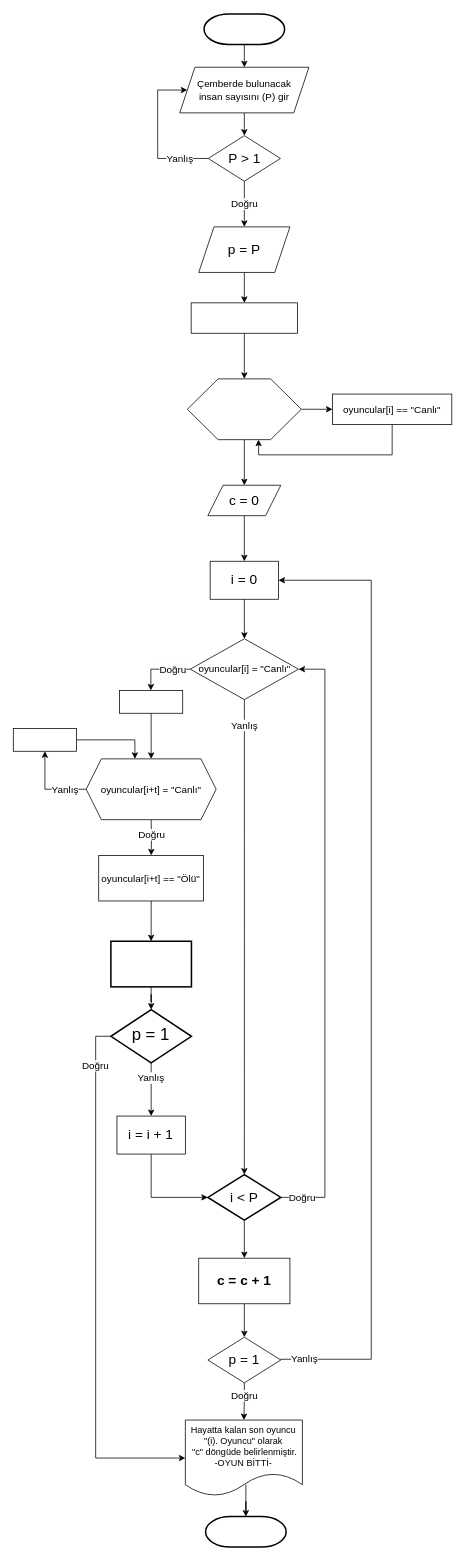
The diagram is 465 pixels wide and 1560 high, and some of its shapes have lost their labels. The shapes that lost their labels are listed below. From the top down, each one's centre as x and y in pixels, then its label:
At [244,29]: "Başla".
At [244,317]: "oyuncular = range(P-1)".
At [244,409]: "i = 0, P-1, 1".
At [151,701]: "t = 1".
At [44,739]: "t = t + 1".
At [151,963]: "p = p - 1".
At [245,1531]: "Bitir".
